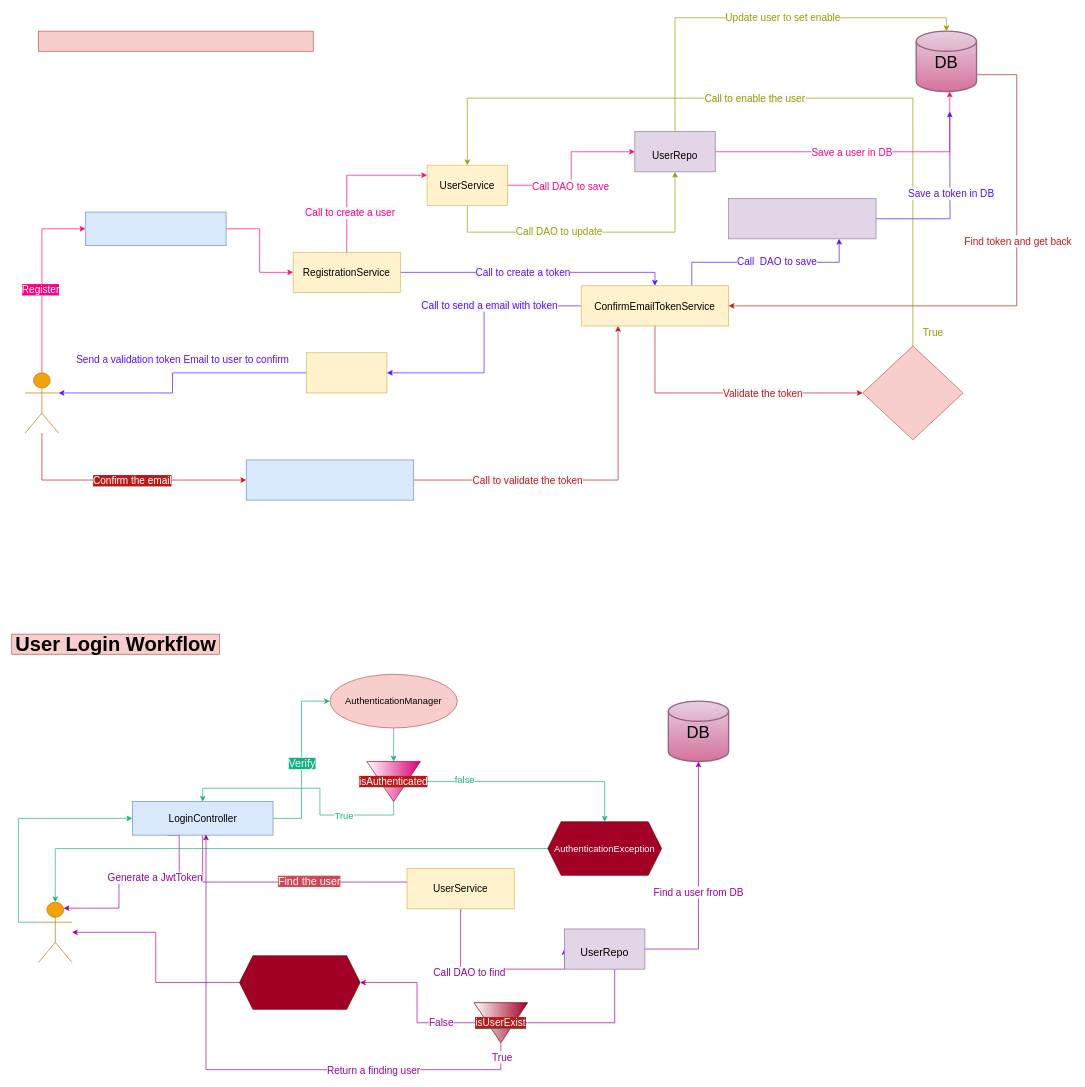
The diagram is 1085 pixels wide and 1087 high, and some of its shapes have lost their labels. The centre of each missing label's shape, as x and y in pixels:
ConfirmEmailTokenController: the point at 330,479
ConfirmEmailTokenRepo: the point at 802,218
EmailService: the point at 346,372
is token valid?: the point at 912,392
RegistrationController: the point at 155,228
User Registration Workflow: the point at 175,40
UserNotFoundException: the point at 299,982
